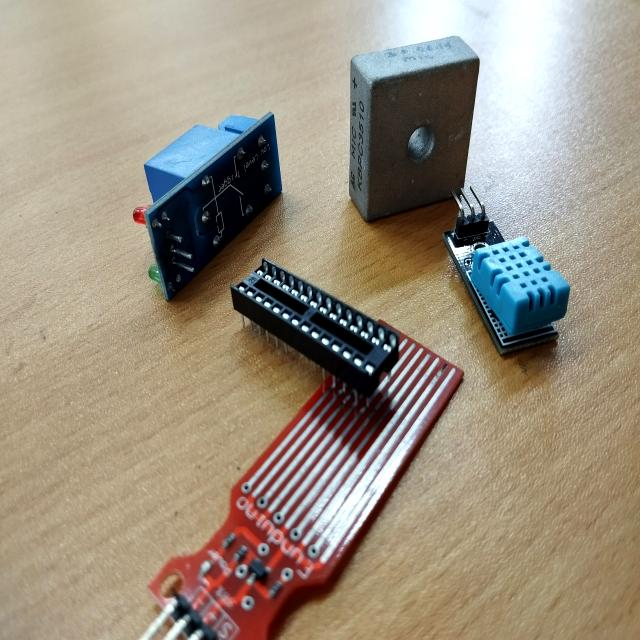Bridge-Rectifier: (327, 23, 483, 229)
Humidity-Sensor: (434, 171, 582, 369)
IC-Base-28-Pin: (220, 254, 404, 414)
Relay-Module: (120, 93, 294, 313)
Water-Sensor: (133, 304, 474, 640)
